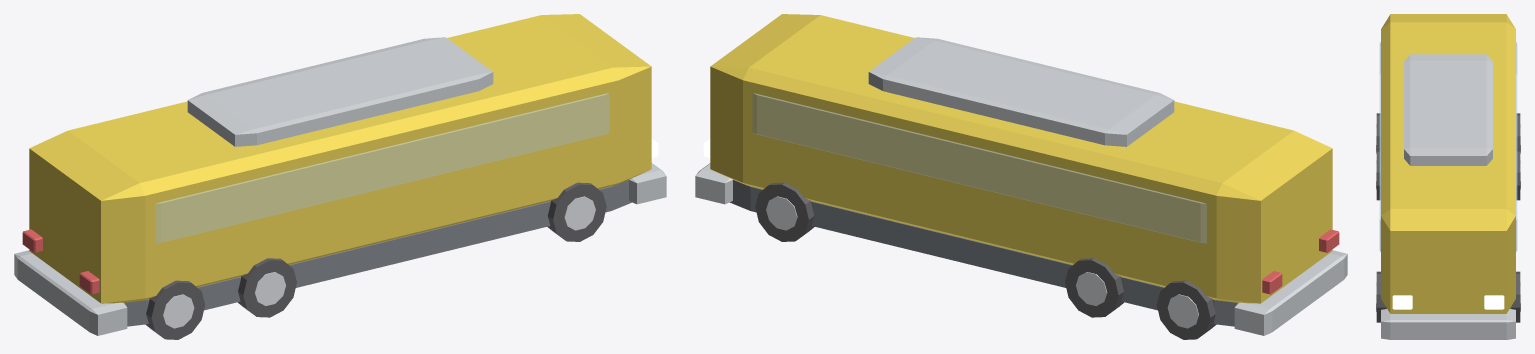
Rendered from b15_conventional_school_bus.glb.
The picture shows the model from 3 angles, left to right: view 1: azimuth 30°, elevation 25°; view 2: azimuth 150°, elevation 25°; view 3: azimuth 270°, elevation 25°; orthographic projection. The views are drawn at different scales.
Parts seen in each view (by area): view 1: b15_conventional_school_bus; view 2: b15_conventional_school_bus; view 3: b15_conventional_school_bus.
Part boxes in pixels (<box>): b15_conventional_school_bus: <box>14,14,666,339</box>; b15_conventional_school_bus: <box>695,14,1347,339</box>; b15_conventional_school_bus: <box>1376,14,1520,339</box>.
Size of the model in its own units: 11.1 by 3.18 by 3.01.
